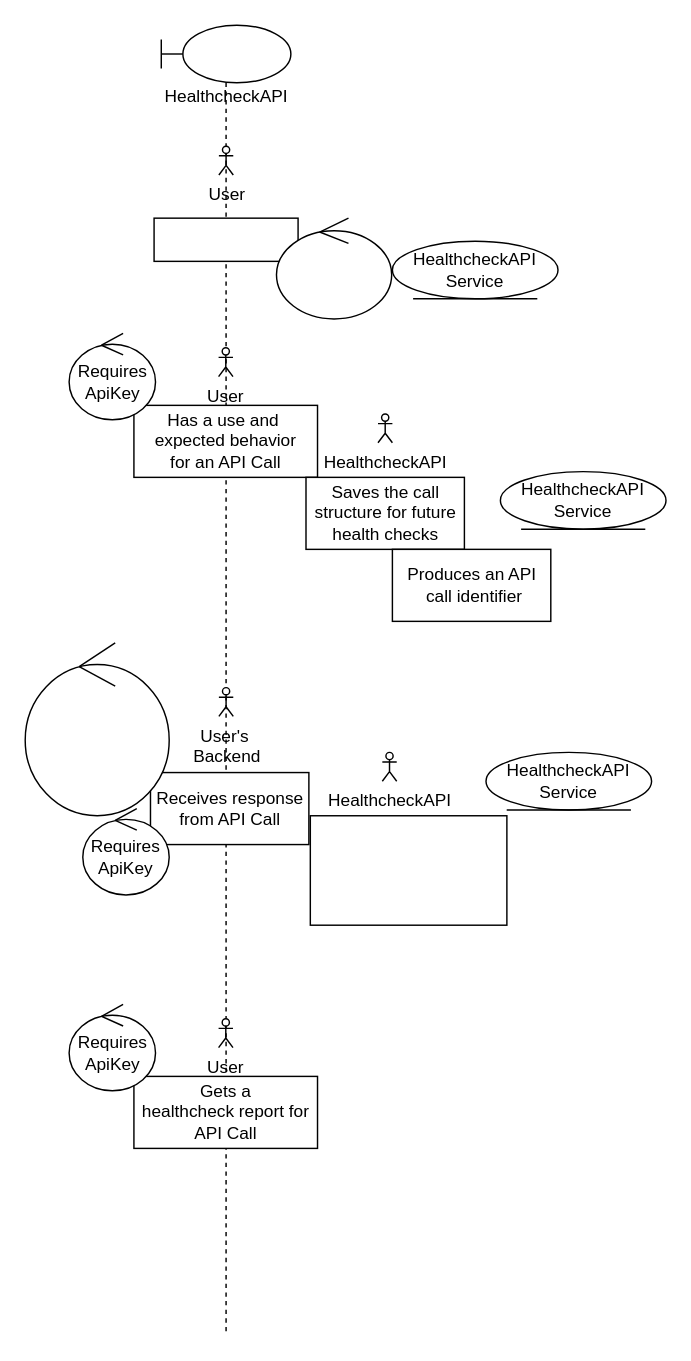
Some shapes in this 691 by 1361 pixel diagram are drawn without their labels. Here are the shapes that lost their labels. From the top down, the box of each, then its label:
(153, 217, 298, 261): Starts using the service
(275, 217, 392, 319): Produces an APIKey per User
(24, 642, 169, 816): Are you sending the whole responses back for correctness?
(309, 814, 507, 925): Evaluates call response with respect to saved model
